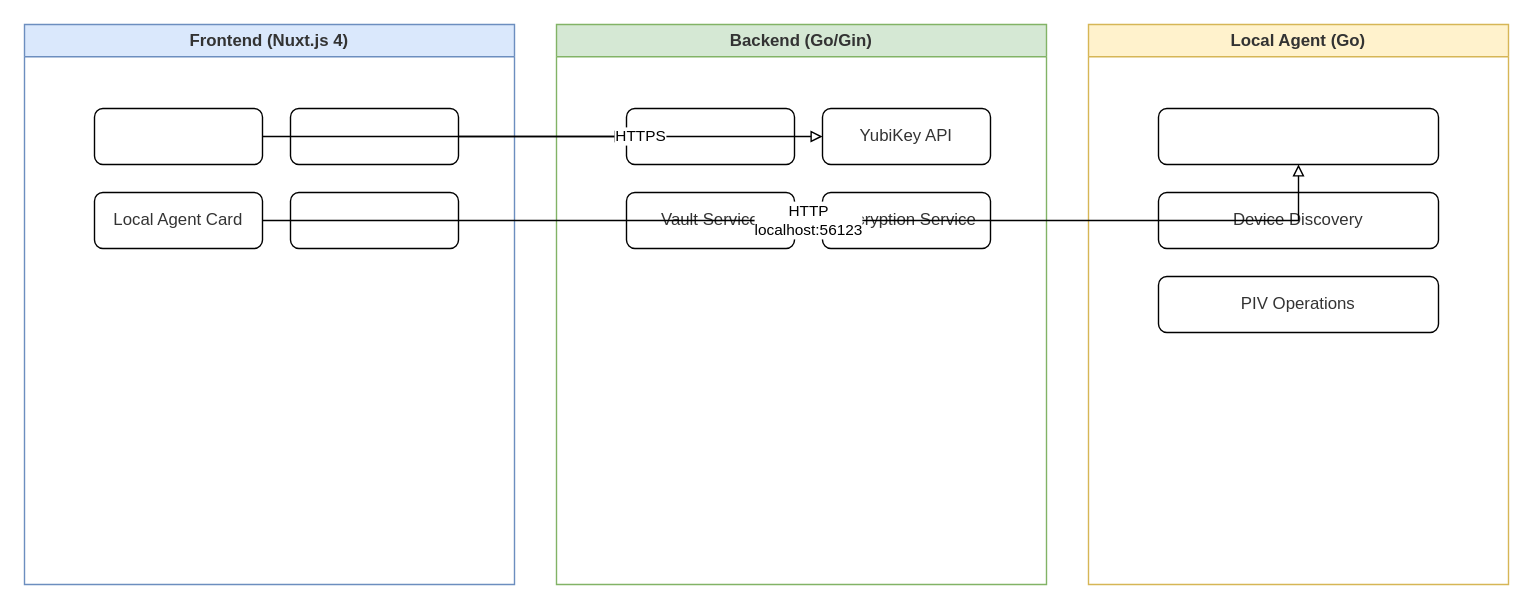
The diagram is 1533 pixels wide and 609 high, and some of its shapes have lost their labels. Each missing label, with the centre of its shape:
Admin Panel: (x=373, y=219)
Auth API: (x=709, y=135)
Dashboard: (x=177, y=135)
HTTP Server: (x=1297, y=135)
PIV Management: (x=373, y=135)
